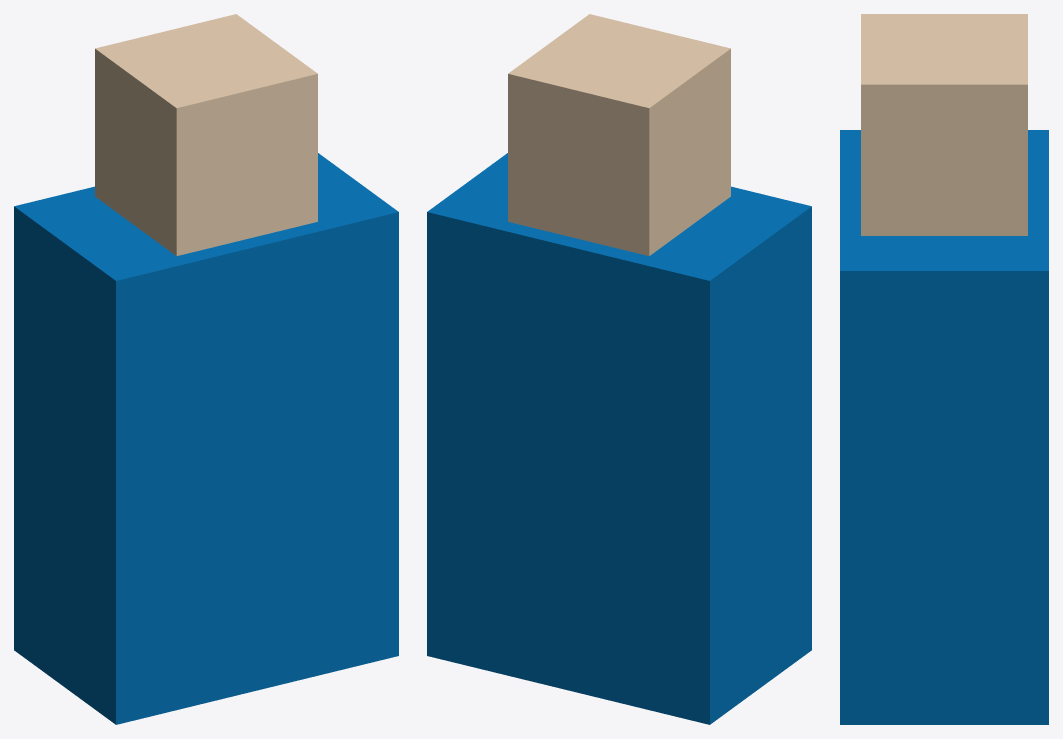
Rendered from finance.gltf.
3 renders of one model, left to right at view 1: azimuth 30°, elevation 25°; view 2: azimuth 150°, elevation 25°; view 3: azimuth 270°, elevation 25°, orthographic. The views are drawn at different scales.
Visible parts, largest first — view 1: Body, Head; view 2: Body, Head; view 3: Body, Head.
Boxes of the visible parts, x1,y1,x2,y2 form: Body: [14, 153, 398, 724]; Head: [95, 14, 317, 256]; Body: [427, 153, 811, 724]; Head: [508, 14, 730, 256]; Body: [840, 130, 1048, 724]; Head: [861, 14, 1027, 235].
Bounding box in the file's own units: 0.4 × 0.8 × 0.25.
